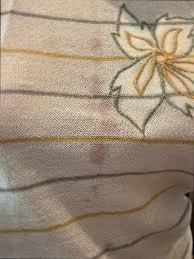wine: (88, 103, 122, 136), (83, 63, 111, 93), (88, 142, 113, 167), (85, 180, 108, 203), (89, 35, 110, 58)
